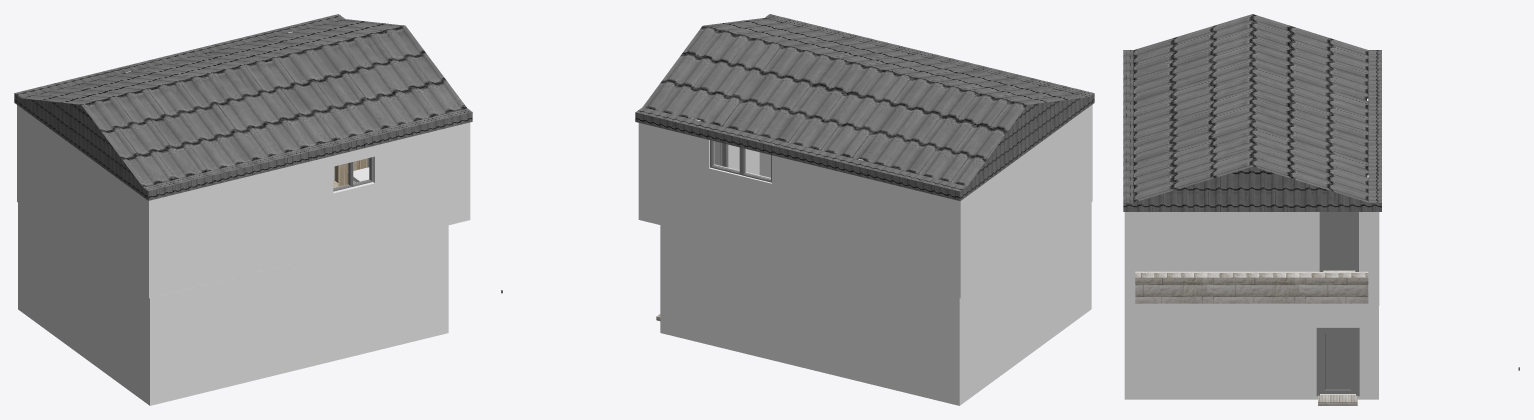
The picture shows the model from 3 angles, left to right: view 1: azimuth 30°, elevation 25°; view 2: azimuth 150°, elevation 25°; view 3: azimuth 270°, elevation 25°; orthographic projection. The views are drawn at different scales.
Visible parts, largest first — view 1: 家裡屋頂L760W960, 一樓家Wall027, Wall028; view 2: 家裡屋頂L760W960, 一樓家Wall027, Wall028, 陽台Wall048; view 3: 家裡屋頂L760W960, 一樓家Wall027, 陽台Wall048, Box162, PivotDoor012, PivotDoor013, Wall028, 二樓陽台, Box101.
Part boxes in pixels (x1=…): 家裡屋頂L760W960: x1=14, y1=14, x2=472, y2=200; 一樓家Wall027: x1=18, y1=203, x2=448, y2=405; Wall028: x1=17, y1=105, x2=470, y2=298; 家裡屋頂L760W960: x1=635, y1=14, x2=1094, y2=200; 一樓家Wall027: x1=660, y1=202, x2=1091, y2=405; Wall028: x1=638, y1=104, x2=1092, y2=298; 陽台Wall048: x1=695, y1=119, x2=759, y2=175; 家裡屋頂L760W960: x1=1123, y1=14, x2=1381, y2=211; 一樓家Wall027: x1=1124, y1=304, x2=1378, y2=399; 陽台Wall048: x1=1135, y1=175, x2=1368, y2=271; Box162: x1=1135, y1=273, x2=1368, y2=303; PivotDoor012: x1=1316, y1=327, x2=1359, y2=396; PivotDoor013: x1=1319, y1=212, x2=1358, y2=271; Wall028: x1=1124, y1=212, x2=1379, y2=305; 二樓陽台: x1=1135, y1=270, x2=1368, y2=304; Box101: x1=1318, y1=395, x2=1357, y2=405.
Bounding box in the file's own units: 1203 × 752 × 1106.
35 materials, 16 textured.
